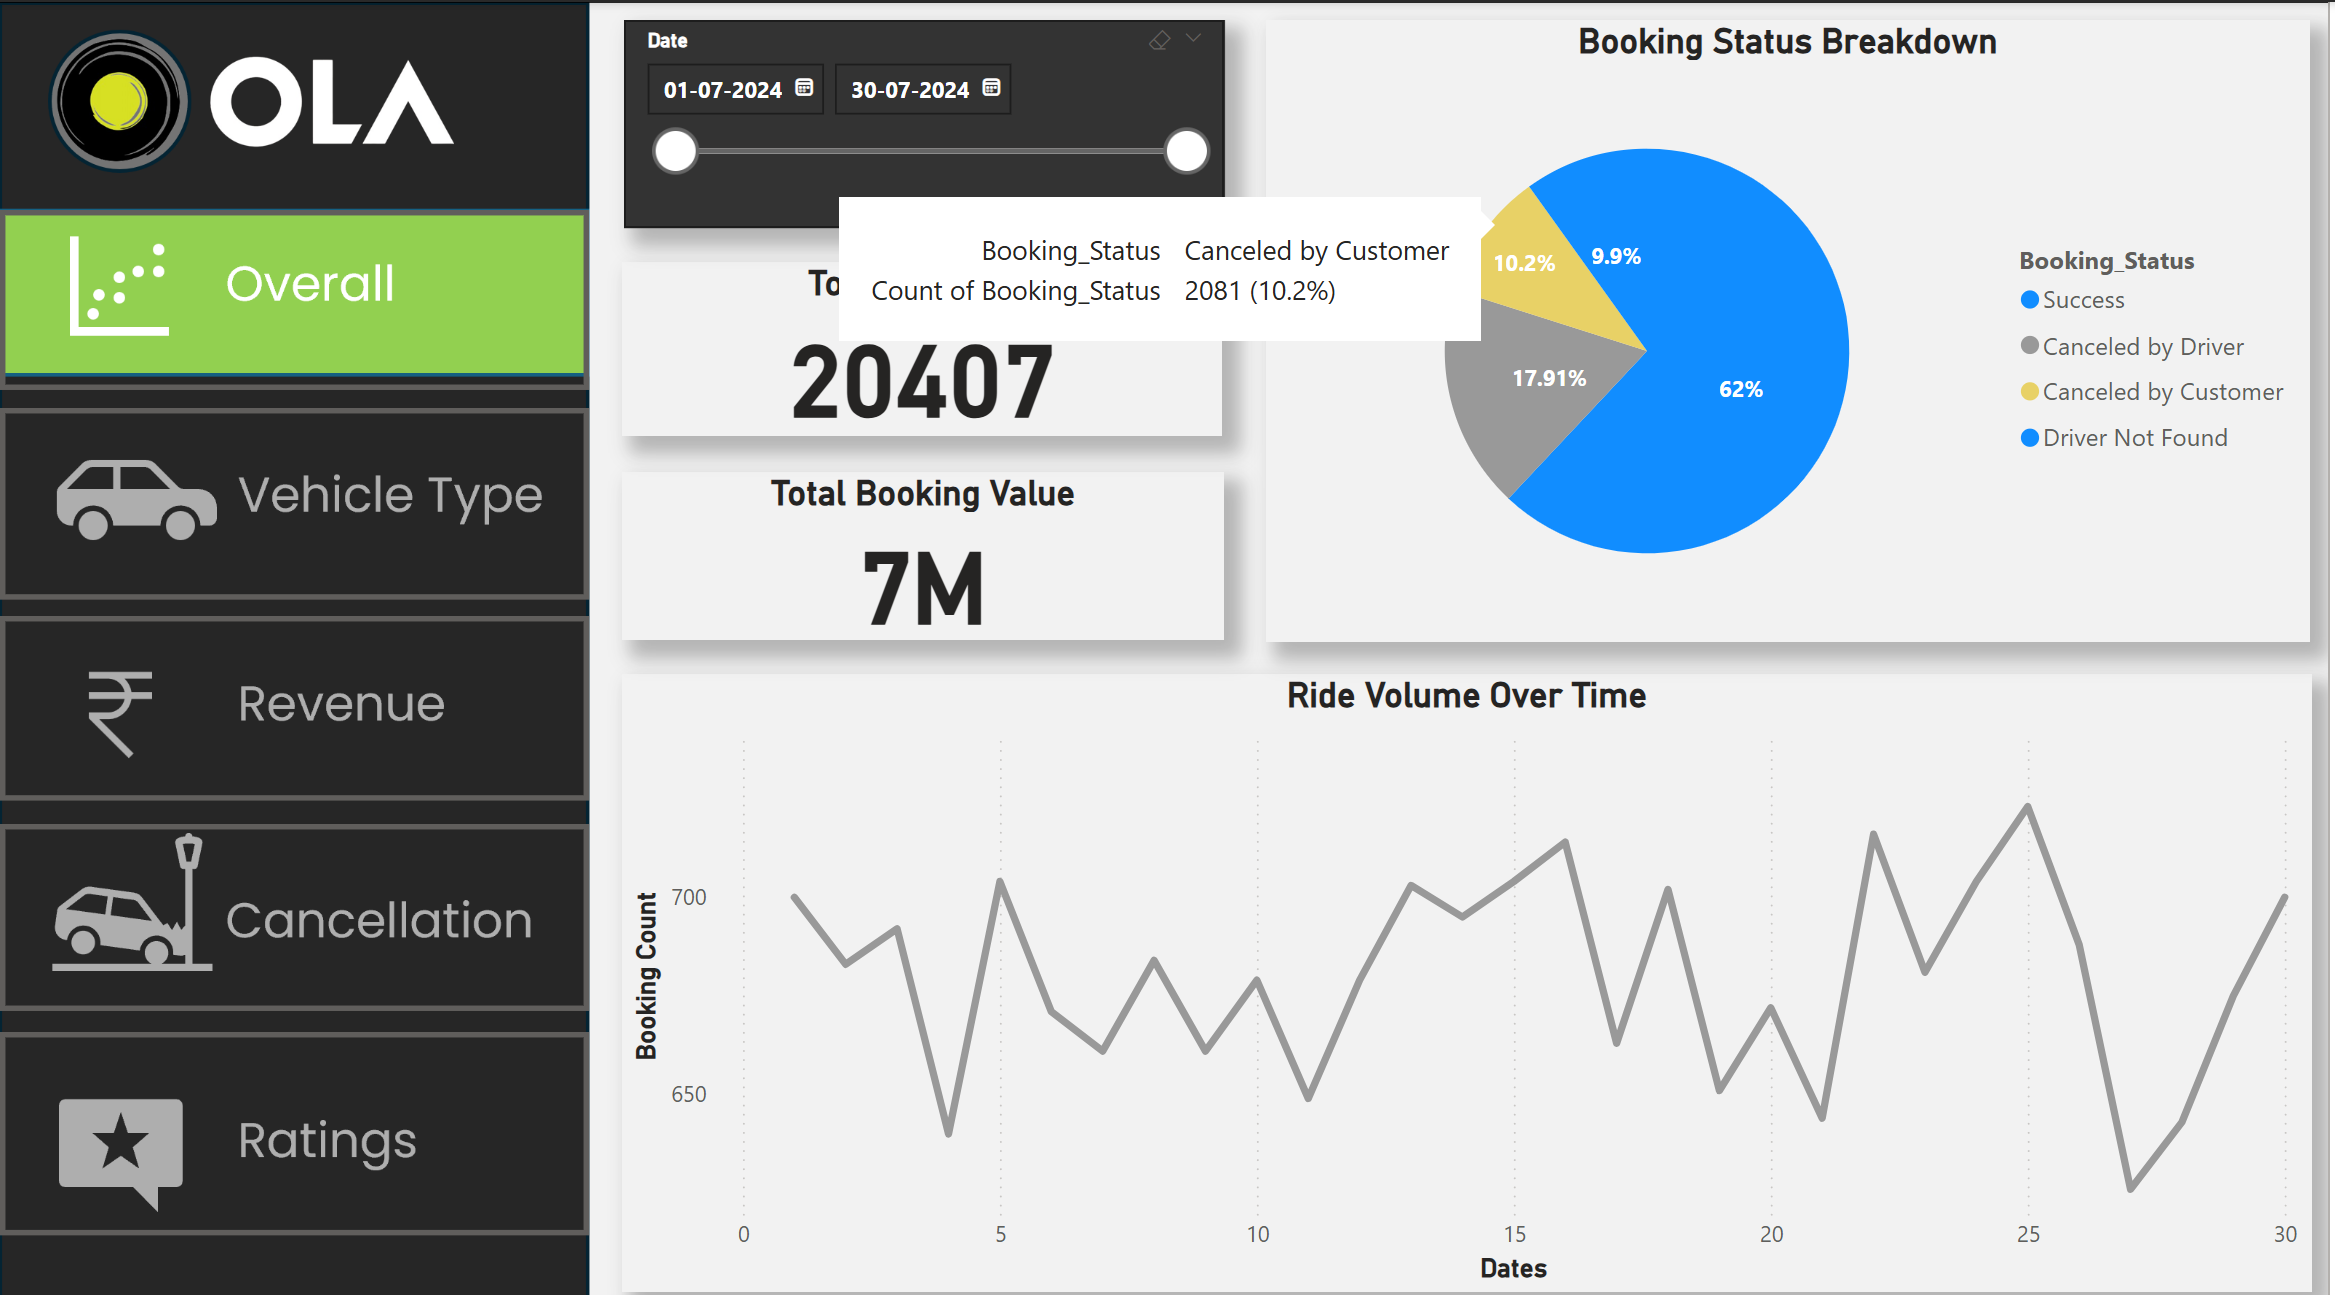

Layout of this report page (visuals, bound fields, positions):
{"tool":"powerbi","page":{"name":"OverAll","canvas":[1280,720],"ordinal":0},"visuals":[{"type":"actionButton","box":[0,114.4,323.9,99],"z":0},{"type":"actionButton","box":[0,223.6,323.9,105.4],"z":1000},{"type":"actionButton","box":[0,338,323.9,101.5],"z":2000},{"type":"actionButton","box":[0,452.4,323.9,102.8],"z":3000},{"type":"actionButton","box":[0,566.7,323.9,111.8],"z":4000},{"type":"lineChart","title":"Ride Volume Over Time","fields":{"Y":["CountNonNull(OLA.Booking_ID)"],"Category":["OLA.Date.Variation.Date Hierarchy.Day"]},"box":[342,369.5,929.2,339.8],"z":5000},{"type":"pieChart","title":"Booking Status Breakdown","fields":{"Category":["OLA.Booking_Status"],"Y":["CountNonNull(OLA.Booking_Status)"]},"box":[696.1,9.9,574,342],"z":6000},{"type":"slicer","fields":{"Values":["OLA.Date"]},"box":[342.6,10,330.6,114.5],"z":7000},{"type":"card","title":"Total Bookings ","fields":{"Values":["CountNonNull(OLA.Booking_ID)"]},"box":[342,143,329.9,95.7],"z":8000},{"type":"card","title":"Total Booking Value","fields":{"Values":["Sum(OLA.Booking_Value)"]},"box":[342,258.4,331,92.4],"z":9000}]}

Visuals, with their boxes in screenshot pixels (x1, y1, x2, y2), scaled from the page's 1280x720 canvas onto the 2335x1295 screenshot:
actionButton: bbox=[0, 206, 591, 384]
actionButton: bbox=[0, 402, 591, 592]
actionButton: bbox=[0, 608, 591, 790]
actionButton: bbox=[0, 814, 591, 999]
actionButton: bbox=[0, 1019, 591, 1220]
"Ride Volume Over Time" lineChart: bbox=[624, 665, 2319, 1276]
"Booking Status Breakdown" pieChart: bbox=[1270, 18, 2317, 633]
slicer - OLA.Date: bbox=[625, 18, 1228, 224]
"Total Bookings " card: bbox=[624, 257, 1226, 429]
"Total Booking Value" card: bbox=[624, 465, 1228, 631]
